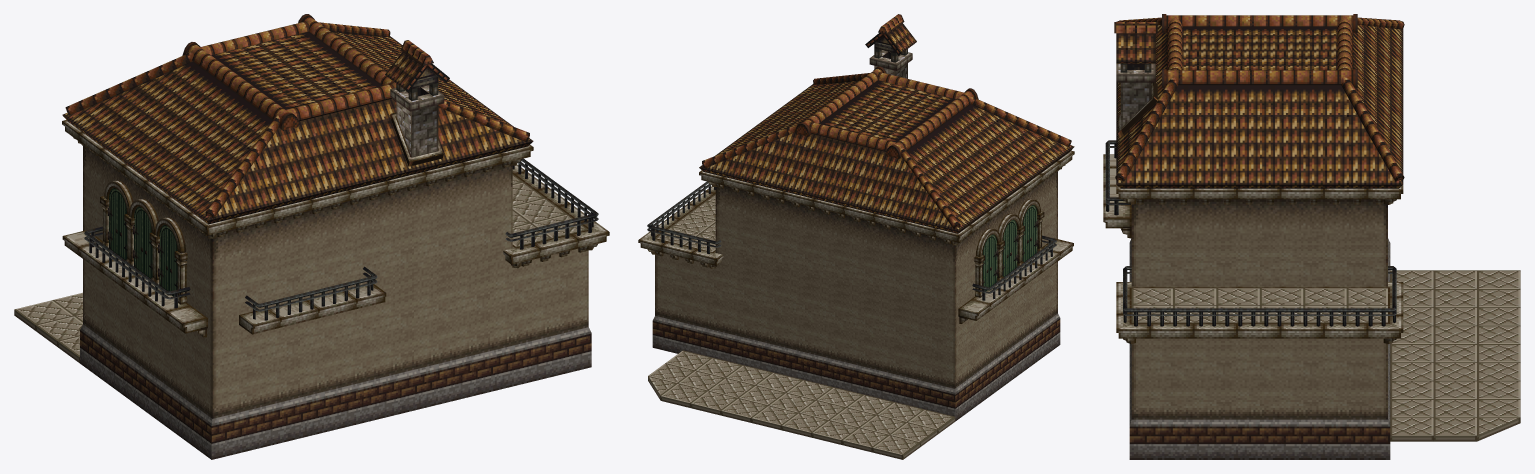
Rendered from EnvBdgMD_Sea_A_Outdoor_Pub_A.FBX.
3 renders of one model, left to right at view 1: azimuth 30°, elevation 25°; view 2: azimuth 150°, elevation 25°; view 3: azimuth 270°, elevation 25°, orthographic. The views are drawn at different scales.
Visible parts, largest first — view 1: EnvBdgMD_Sea_A_Outdoor_Pub_A; view 2: EnvBdgMD_Sea_A_Outdoor_Pub_A; view 3: EnvBdgMD_Sea_A_Outdoor_Pub_A.
Part boxes in pixels (x1=…): EnvBdgMD_Sea_A_Outdoor_Pub_A: x1=14, y1=14, x2=609, y2=459; EnvBdgMD_Sea_A_Outdoor_Pub_A: x1=638, y1=14, x2=1074, y2=459; EnvBdgMD_Sea_A_Outdoor_Pub_A: x1=1103, y1=14, x2=1520, y2=459.
Size of the model in its own units: 1090 by 900 by 960.
Materials: 2 (2 with a texture image).
